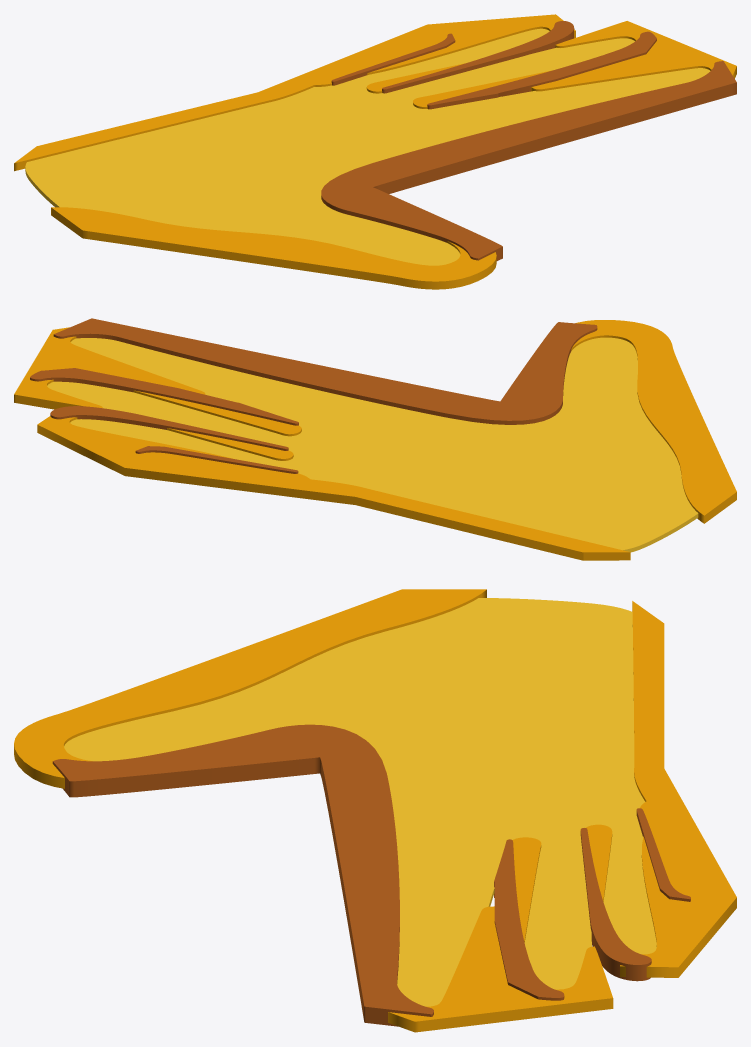
The model's file is emoji_u1faf3.glb.
3 views of the same model, one above another, from view 1: azimuth 30°, elevation 25°; view 2: azimuth 150°, elevation 25°; view 3: azimuth 270°, elevation 25° (orthographic). The views are drawn at different scales.
Parts seen in each view (by area): view 1: emoji_u1faf3; view 2: emoji_u1faf3; view 3: emoji_u1faf3.
Part boxes in pixels (x1,y1,x2,y2): emoji_u1faf3: (14, 14, 736, 289); emoji_u1faf3: (14, 318, 736, 560); emoji_u1faf3: (14, 589, 736, 1032).
Bounding box in the file's own units: 0.0345 × 0.0006 × 0.0244.
